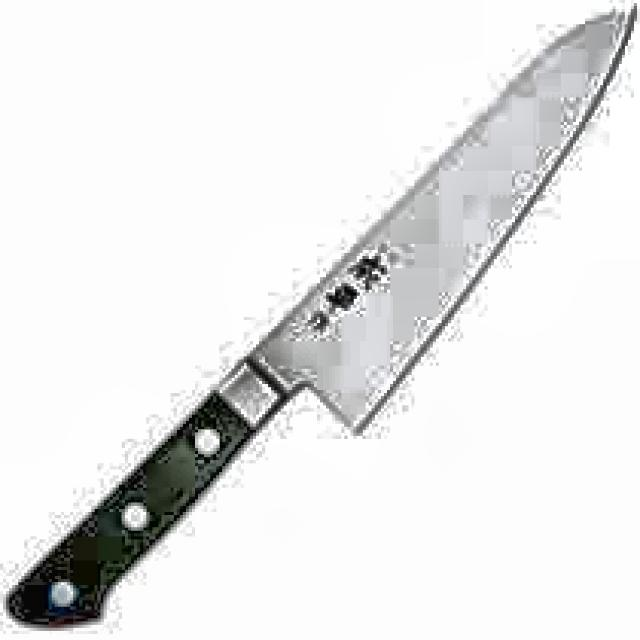knife: (5, 3, 637, 627)
